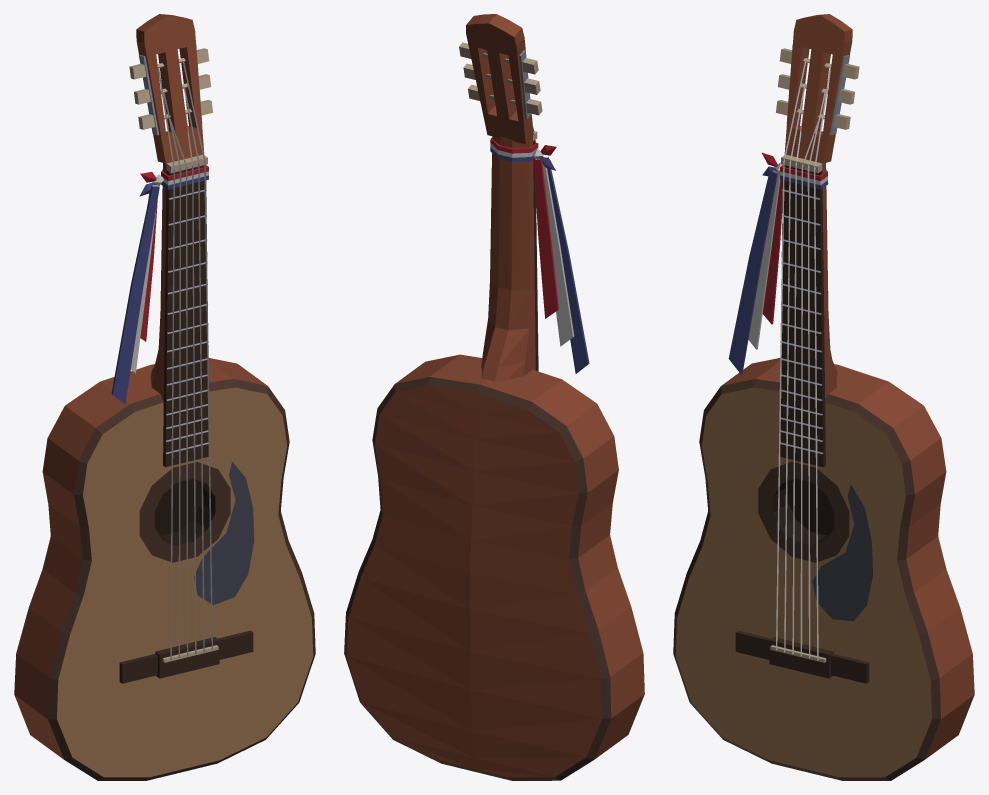
Rendered from guitar-b013ee.glb.
3 renders of one model, left to right at view 1: azimuth 30°, elevation 25°; view 2: azimuth 150°, elevation 25°; view 3: azimuth 330°, elevation 25°, orthographic.
Visible parts, largest first — view 1: guitar-body, ribbon-tails-mesh; view 2: guitar-body, ribbon-tails-mesh; view 3: guitar-body, ribbon-tails-mesh.
Part boxes in pixels (bbox=[...]): guitar-body: bbox=[14, 14, 315, 780]; ribbon-tails-mesh: bbox=[111, 184, 159, 404]; guitar-body: bbox=[344, 14, 644, 780]; ribbon-tails-mesh: bbox=[533, 157, 589, 373]; guitar-body: bbox=[673, 14, 974, 780]; ribbon-tails-mesh: bbox=[728, 170, 782, 374].
Size of the model in its own units: 0.376 by 1 by 0.1263.
